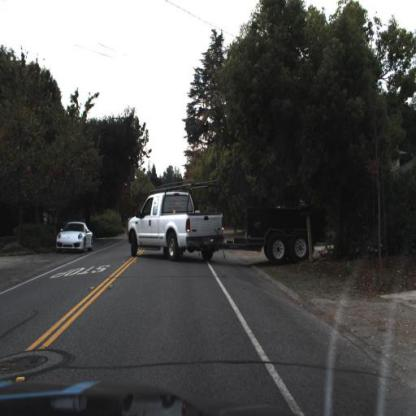car: (128, 187, 326, 266), (55, 221, 92, 257)
